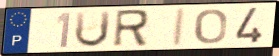1: (55, 11, 72, 49)
4: (233, 6, 265, 45)
I: (169, 6, 188, 48)
O: (193, 7, 229, 45)
R: (110, 8, 151, 49)
U: (72, 9, 113, 49)
